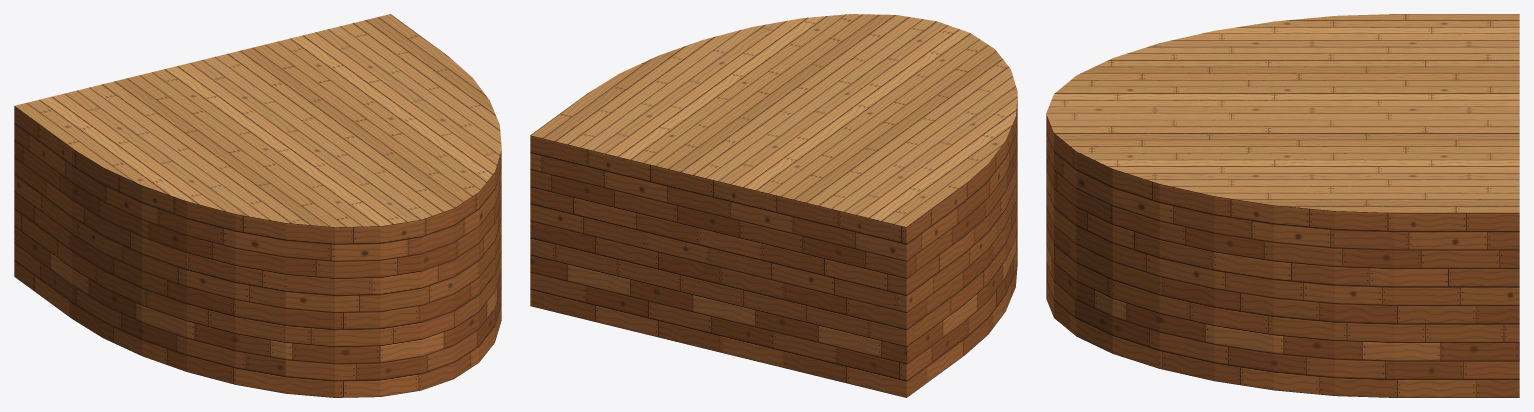
Rendered from stern_castle.glb.
The picture shows the model from 3 angles, left to right: view 1: azimuth 30°, elevation 25°; view 2: azimuth 150°, elevation 25°; view 3: azimuth 270°, elevation 25°; orthographic projection. The views are drawn at different scales.
Visible parts, largest first — view 1: stern_castle; view 2: stern_castle; view 3: stern_castle.
Part boxes in pixels (left/top/right/bottom): stern_castle: left=14, top=14, right=501, bottom=397; stern_castle: left=530, top=14, right=1017, bottom=397; stern_castle: left=1046, top=14, right=1519, bottom=397.
Bounding box in the file's own units: 6 × 2.6 × 6.03.
2 materials, 2 textured.
